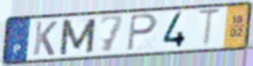4: (161, 10, 188, 50)
7: (98, 14, 125, 55)
K: (31, 20, 59, 57)
M: (58, 17, 98, 57)
P: (126, 13, 160, 53)
T: (196, 8, 224, 49)
